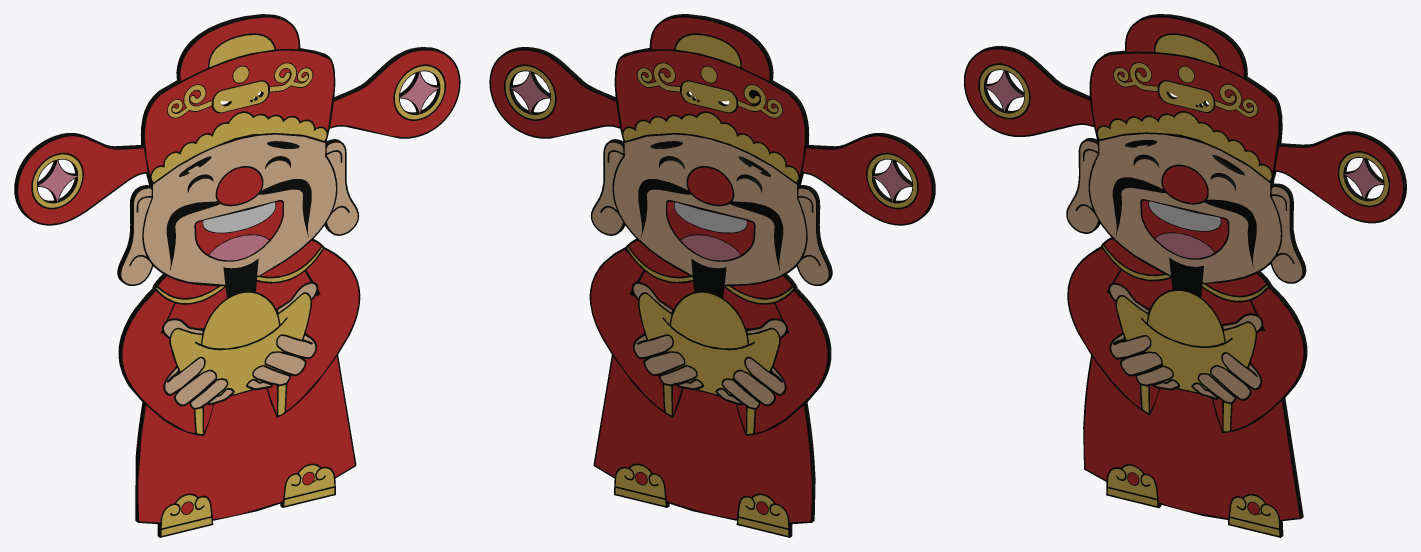
The model's file is choisanR3al.glb.
The picture shows the model from 3 angles, left to right: view 1: azimuth 30°, elevation 25°; view 2: azimuth 150°, elevation 25°; view 3: azimuth 330°, elevation 25°; orthographic projection.
Parts seen in each view (by area): view 1: path993; view 2: path993; view 3: path993.
Boxes of the visible parts, <box> form: path993: <box>14,14,460,537</box>; path993: <box>489,14,935,537</box>; path993: <box>964,14,1406,537</box>.
Size of the model in its own units: 0.2044 by 0.2196 by 0.00212.
